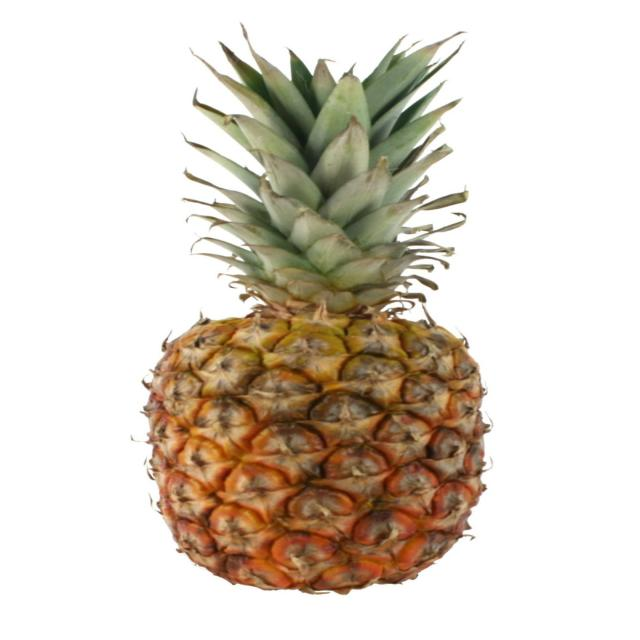pineapple: (121, 223, 502, 592)
